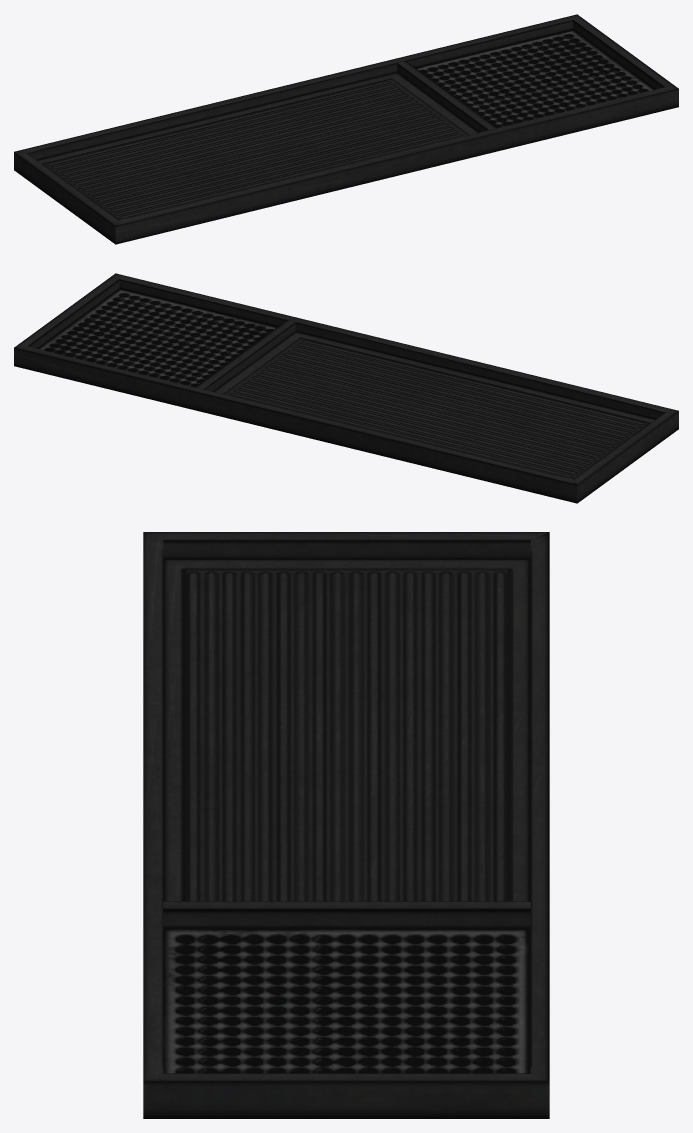
File: p6_bar_drink_mat_lod0.glb
3 renders of one model, top to bottom at view 1: azimuth 30°, elevation 25°; view 2: azimuth 150°, elevation 25°; view 3: azimuth 270°, elevation 25°, orthographic. The views are drawn at different scales.
Visible parts, largest first — view 1: surf1, surf0; view 2: surf1, surf0; view 3: surf1, surf0.
Boxes of the visible parts, bbox=[...] form: surf1: bbox=[14, 14, 678, 244]; surf0: bbox=[416, 29, 654, 127]; surf1: bbox=[14, 273, 678, 503]; surf0: bbox=[38, 289, 276, 386]; surf1: bbox=[143, 532, 549, 1118]; surf0: bbox=[163, 929, 530, 1073].
Bounding box in the file's own units: 16 × 0.5 × 5.
